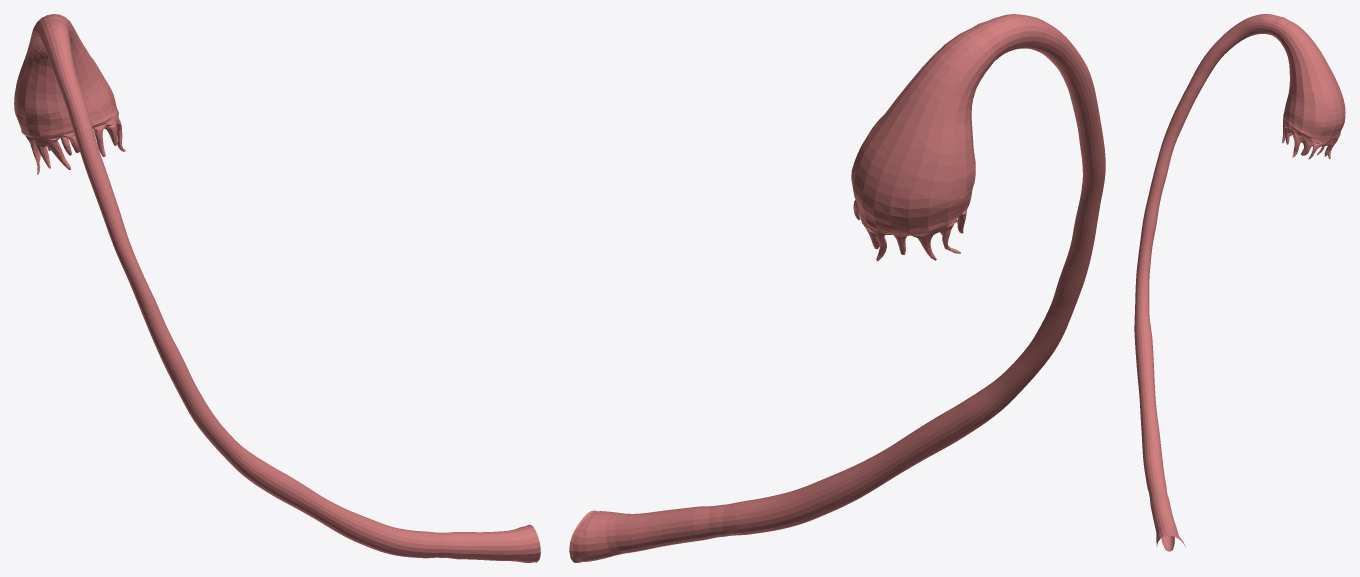
Rendered from VH_F_Fallopian_Tube_R_0.6.glb.
3 views of the same model, side by side, from view 1: azimuth 30°, elevation 25°; view 2: azimuth 150°, elevation 25°; view 3: azimuth 270°, elevation 25° (orthographic). The views are drawn at different scales.
Parts seen in each view (by area): view 1: VH_F_ampulla_of_uterine_tube_R, VH_F_uterine_tube_infundibulum_R, VH_F_isthmus_of_fallopian_tube_R, VH_F_fibria_of_uterine_tube_R; view 2: VH_F_ampulla_of_uterine_tube_R, VH_F_uterine_tube_infundibulum_R, VH_F_isthmus_of_fallopian_tube_R, VH_F_fibria_of_uterine_tube_R; view 3: VH_F_ampulla_of_uterine_tube_R, VH_F_uterine_tube_infundibulum_R, VH_F_isthmus_of_fallopian_tube_R, VH_F_fibria_of_uterine_tube_R.
Part boxes in pixels (<box>): VH_F_ampulla_of_uterine_tube_R: <box>37,16,450,558</box>; VH_F_uterine_tube_infundibulum_R: <box>14,14,118,136</box>; VH_F_isthmus_of_fallopian_tube_R: <box>442,524,540,562</box>; VH_F_fibria_of_uterine_tube_R: <box>22,112,125,174</box>; VH_F_ampulla_of_uterine_tube_R: <box>715,14,1105,536</box>; VH_F_uterine_tube_infundibulum_R: <box>851,23,1001,233</box>; VH_F_isthmus_of_fallopian_tube_R: <box>569,505,722,562</box>; VH_F_fibria_of_uterine_tube_R: <box>853,200,967,260</box>; VH_F_ampulla_of_uterine_tube_R: <box>1134,14,1283,493</box>; VH_F_uterine_tube_infundibulum_R: <box>1273,17,1345,139</box>; VH_F_isthmus_of_fallopian_tube_R: <box>1149,488,1185,551</box>; VH_F_fibria_of_uterine_tube_R: <box>1282,117,1339,159</box>.
Bounding box in the file's own units: 0.0344 × 0.0446 × 0.0209.
